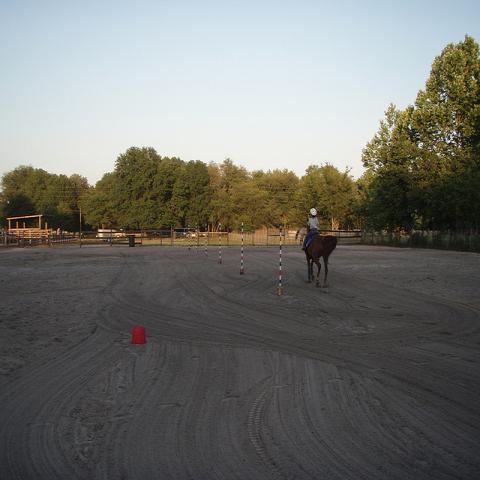truck: (96, 229, 112, 237)
